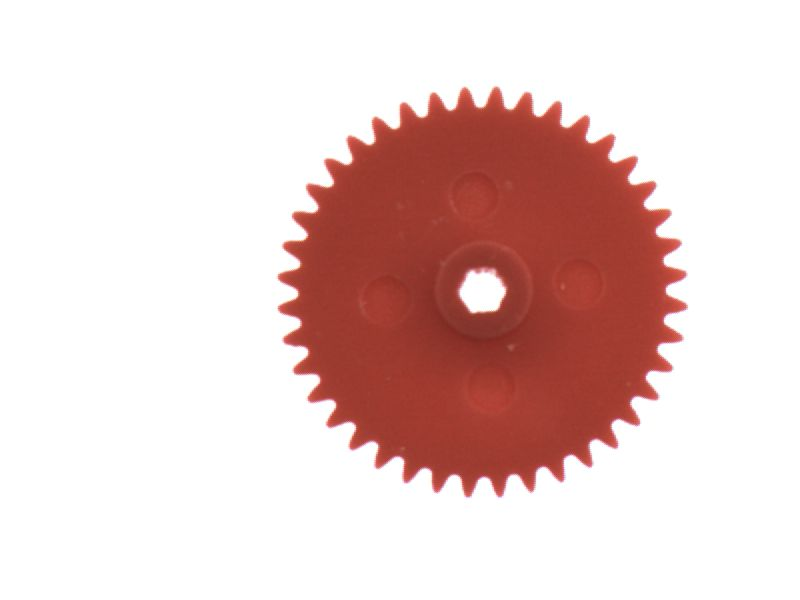good_product: (257, 70, 702, 512)
